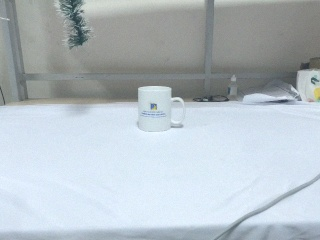bottle: (227, 75, 239, 100)
box: (295, 68, 320, 102)
cup: (136, 86, 173, 133)
